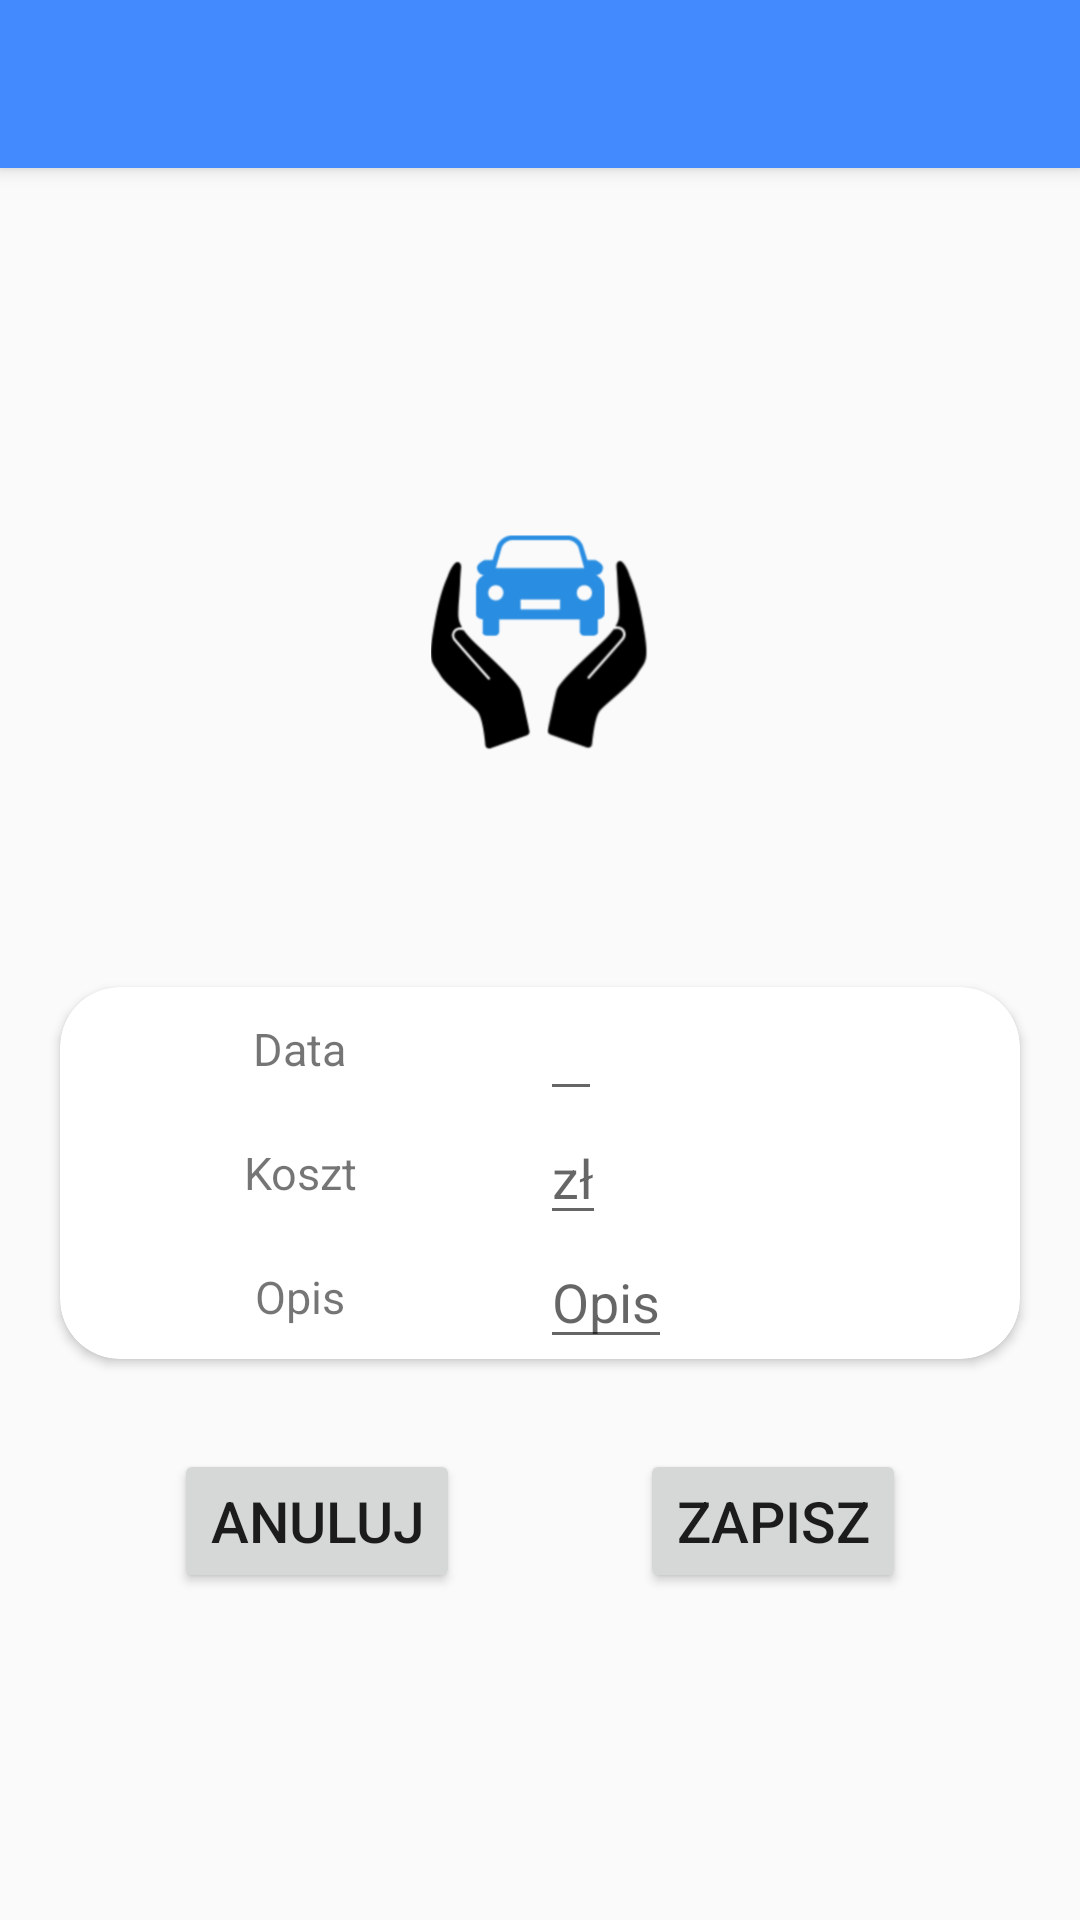

Where to tap for icons on this 1080px x 1920px app screen, as point (x, y):
ubezpieczenie: point (539, 642)
